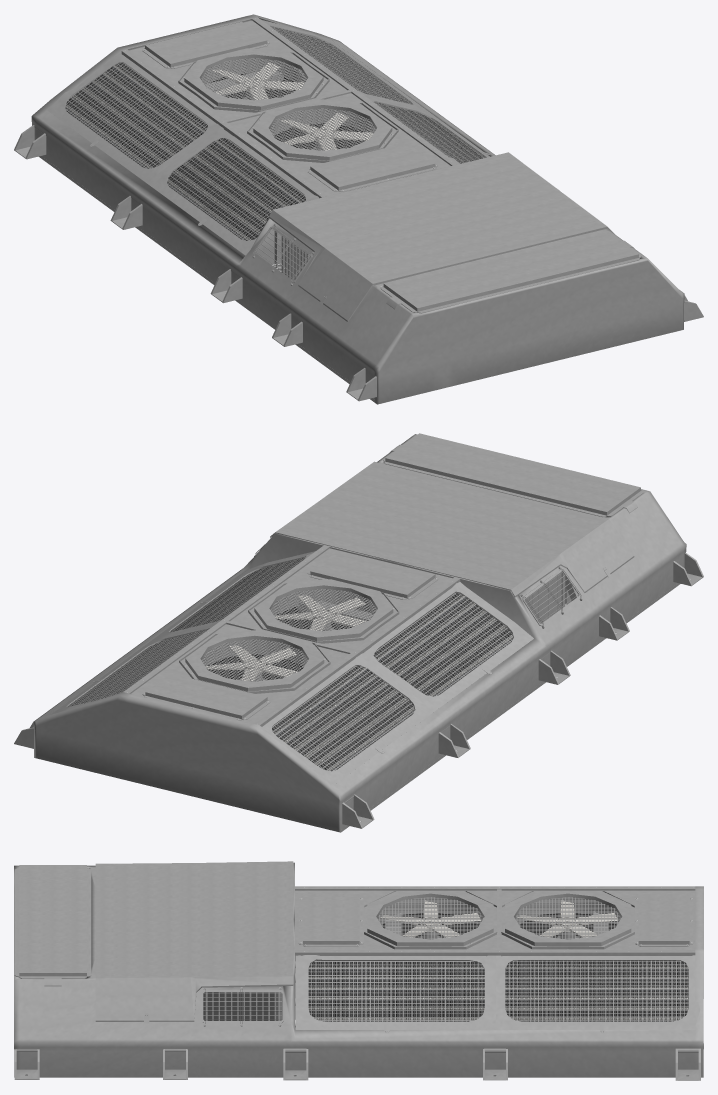
File: HVAC_FINAL_MODEL.fbx
3 renders of one model, top to bottom at view 1: azimuth 30°, elevation 25°; view 2: azimuth 150°, elevation 25°; view 3: azimuth 270°, elevation 25°, orthographic.
Parts seen in each view (by area): view 1: HVAC_Finalized:HVAC_Finalized:polySurface1631, HVAC_Finalized:HVAC_Finalized:pCube207 (×2), HVAC_Finalized:HVAC_Finalized:pCube196, HVAC_Finalized:HVAC_Finalized:pCube31, HVAC_Finalized:HVAC_Finalized:polySurface1743 (×2), HVAC_Finalized:HVAC_Finalized:pCube208, HVAC_Finalized:HVAC_Finalized:pCube210, HVAC_Finalized:HVAC_Finalized:polySurface1621, HVAC_Finalized:HVAC_Finalized:pCube37, HVAC_Finalized:HVAC_Finalized:polySurface1642, HVAC_Finalized:HVAC_Finalized:pCube36, HVAC_Finalized:HVAC_Finalized:pPlane1 (+6 smaller); view 2: HVAC_Finalized:HVAC_Finalized:polySurface1631, HVAC_Finalized:HVAC_Finalized:pCube207 (×2), HVAC_Finalized:HVAC_Finalized:pCube196, HVAC_Finalized:HVAC_Finalized:polySurface1743 (×2), HVAC_Finalized:HVAC_Finalized:pCube31, HVAC_Finalized:HVAC_Finalized:pCube210, HVAC_Finalized:HVAC_Finalized:pCube208, HVAC_Finalized:HVAC_Finalized:polySurface1621, HVAC_Finalized:HVAC_Finalized:polySurface1642, HVAC_Finalized:HVAC_Finalized:pCube37, HVAC_Finalized:HVAC_Finalized:pCube36, HVAC_Finalized:HVAC_Finalized:pPlane1 (+6 smaller); view 3: HVAC_Finalized:HVAC_Finalized:polySurface1743 (×2), HVAC_Finalized:HVAC_Finalized:polySurface1631, HVAC_Finalized:HVAC_Finalized:pCube196, HVAC_Finalized:HVAC_Finalized:pCube31, HVAC_Finalized:HVAC_Finalized:pCube208, HVAC_Finalized:HVAC_Finalized:pCube210, HVAC_Finalized:HVAC_Finalized:polySurface1642, HVAC_Finalized:HVAC_Finalized:pCube37, HVAC_Finalized:HVAC_Finalized:pCube36, HVAC_Finalized:HVAC_Finalized:polySurface1622, HVAC_Finalized:HVAC_Finalized:pCube176, HVAC_Finalized:HVAC_Finalized:pPlane1 (+7 smaller).
Boxes of the visible parts, box(x1,y1,x2,y2) form: HVAC_Finalized:HVAC_Finalized:polySurface1631: box(31, 14, 684, 404); HVAC_Finalized:HVAC_Finalized:pCube207 (×2): box(47, 51, 318, 255); HVAC_Finalized:HVAC_Finalized:pCube196: box(269, 152, 614, 321); HVAC_Finalized:HVAC_Finalized:pCube31: box(381, 229, 641, 313); HVAC_Finalized:HVAC_Finalized:polySurface1743 (×2): box(250, 19, 489, 164); HVAC_Finalized:HVAC_Finalized:pCube208: box(178, 48, 329, 112); HVAC_Finalized:HVAC_Finalized:pCube210: box(247, 98, 398, 162); HVAC_Finalized:HVAC_Finalized:polySurface1621: box(14, 125, 376, 401); HVAC_Finalized:HVAC_Finalized:pCube37: box(307, 143, 437, 191); HVAC_Finalized:HVAC_Finalized:polySurface1642: box(121, 17, 457, 198); HVAC_Finalized:HVAC_Finalized:pCube36: box(142, 21, 269, 68); HVAC_Finalized:HVAC_Finalized:pPlane1: box(228, 93, 450, 195); HVAC_Finalized:HVAC_Finalized:polySurface1631: box(33, 434, 686, 832); HVAC_Finalized:HVAC_Finalized:pCube207 (×2): box(262, 582, 533, 784); HVAC_Finalized:HVAC_Finalized:pCube196: box(270, 461, 634, 597); HVAC_Finalized:HVAC_Finalized:polySurface1743 (×2): box(50, 551, 315, 714); HVAC_Finalized:HVAC_Finalized:pCube31: box(383, 433, 643, 517); HVAC_Finalized:HVAC_Finalized:pCube210: box(248, 579, 399, 643); HVAC_Finalized:HVAC_Finalized:pCube208: box(179, 629, 330, 693); HVAC_Finalized:HVAC_Finalized:polySurface1621: box(342, 553, 703, 828); HVAC_Finalized:HVAC_Finalized:polySurface1642: box(124, 545, 460, 726); HVAC_Finalized:HVAC_Finalized:pCube37: box(307, 550, 438, 599); HVAC_Finalized:HVAC_Finalized:pCube36: box(142, 673, 270, 720); HVAC_Finalized:HVAC_Finalized:pPlane1: box(230, 548, 452, 651); HVAC_Finalized:HVAC_Finalized:polySurface1743 (×2): box(295, 955, 700, 1033); HVAC_Finalized:HVAC_Finalized:polySurface1631: box(14, 862, 703, 1077); HVAC_Finalized:HVAC_Finalized:pCube196: box(95, 861, 293, 1023); HVAC_Finalized:HVAC_Finalized:pCube31: box(14, 865, 91, 986); HVAC_Finalized:HVAC_Finalized:pCube208: box(501, 890, 634, 949); HVAC_Finalized:HVAC_Finalized:pCube210: box(364, 890, 497, 949); HVAC_Finalized:HVAC_Finalized:polySurface1642: box(295, 886, 695, 1029); HVAC_Finalized:HVAC_Finalized:pCube37: box(298, 894, 363, 946); HVAC_Finalized:HVAC_Finalized:pCube36: box(635, 894, 693, 946); HVAC_Finalized:HVAC_Finalized:polySurface1622: box(14, 1048, 700, 1080); HVAC_Finalized:HVAC_Finalized:pCube176: box(203, 992, 282, 1020); HVAC_Finalized:HVAC_Finalized:pPlane1: box(295, 890, 496, 949).
Size of the model in its own units: 2.47 by 0.6017 by 4.25.
Materials: 12 (11 with a texture image).
